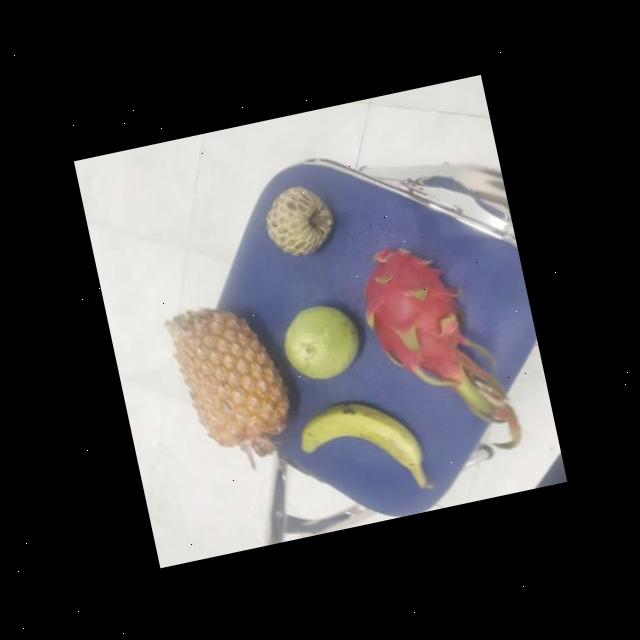Sakya fruit: (258, 174, 340, 259)
banana: (294, 384, 428, 490)
guava: (276, 294, 366, 384)
pineapple: (166, 294, 301, 454)
pitaya: (352, 225, 478, 396)
